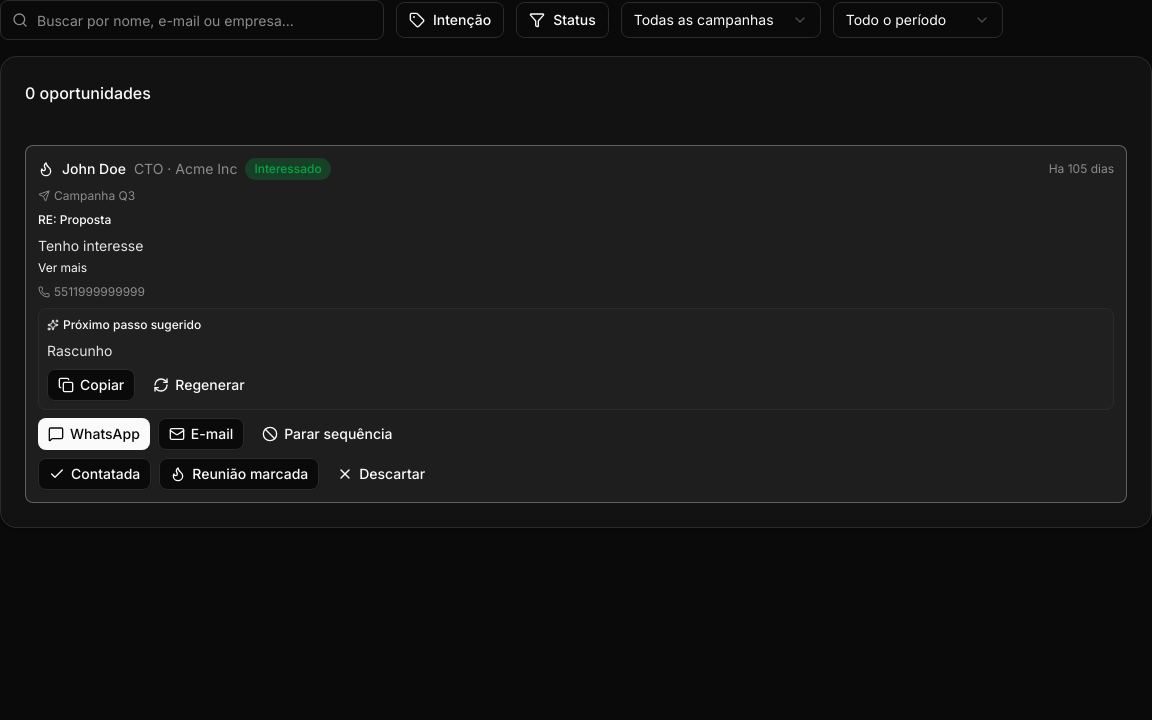
Test: OpportunitiesPageContent — ações (Story 21.5) › envio bem-sucedido fecha o composer e repassa opportunityId/leadId
Click the button with test id "opportunity-action-whatsapp": (94, 434) [38,418,150,450]
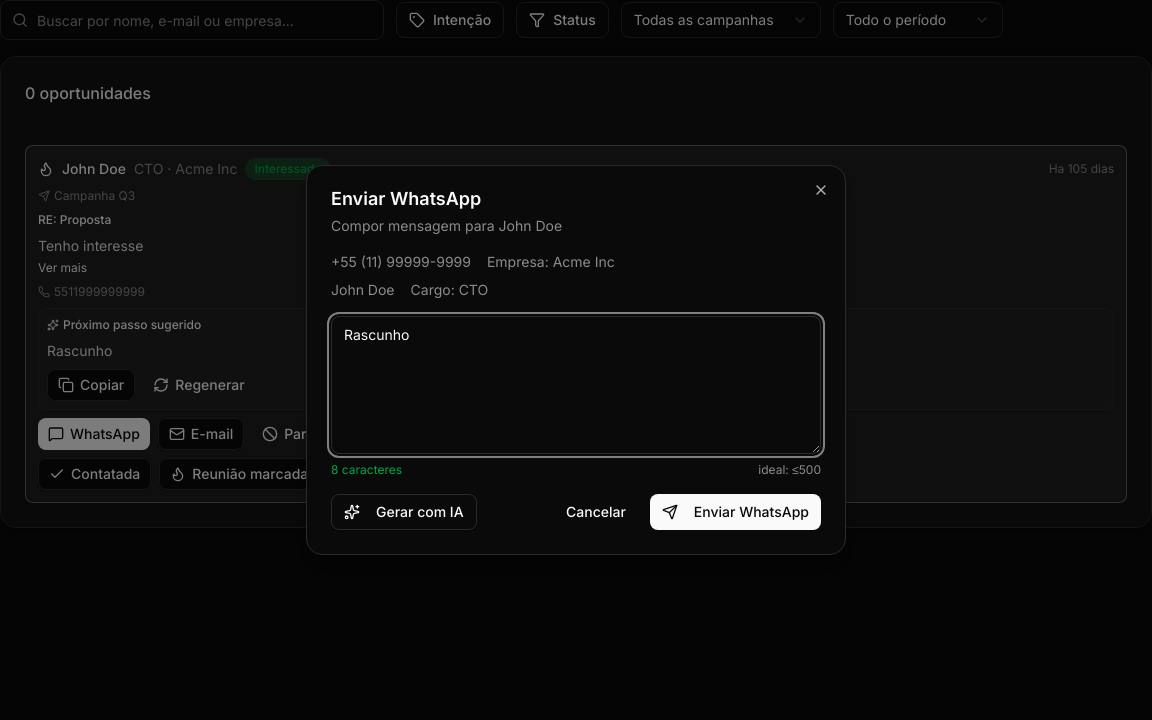
Click the button "Enviar WhatsApp": (735, 512) [650,494,821,530]
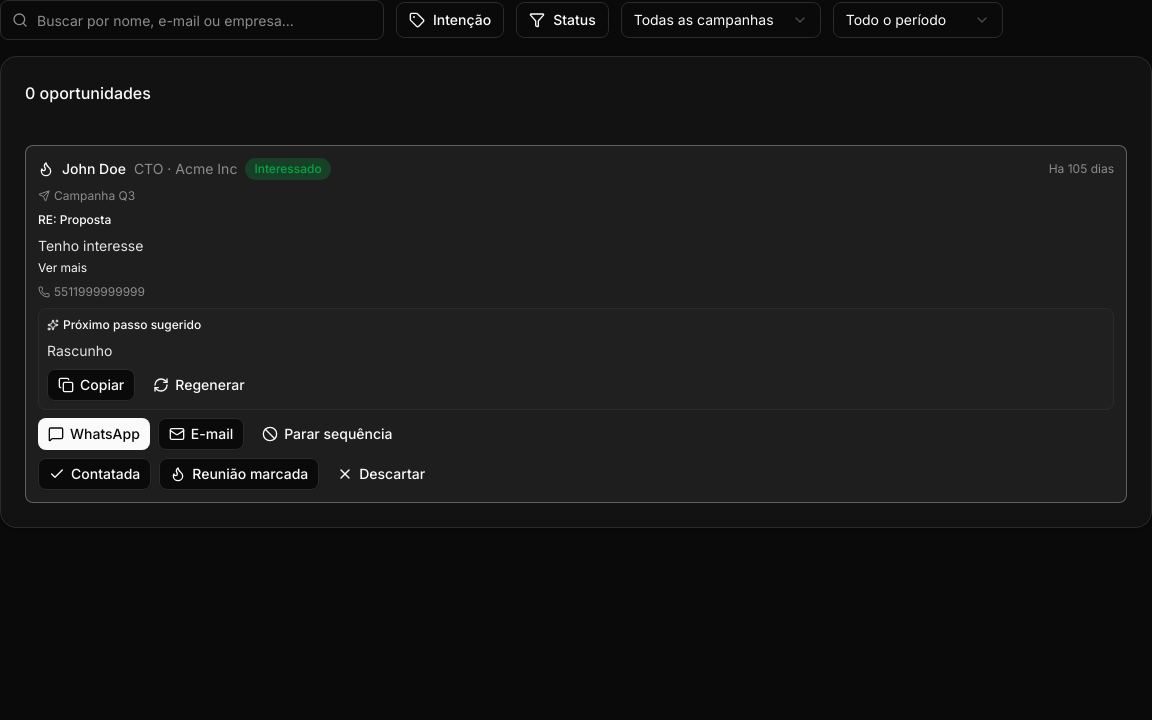
Now the dialog with test id "whatsapp-composer-dialog" is gone
